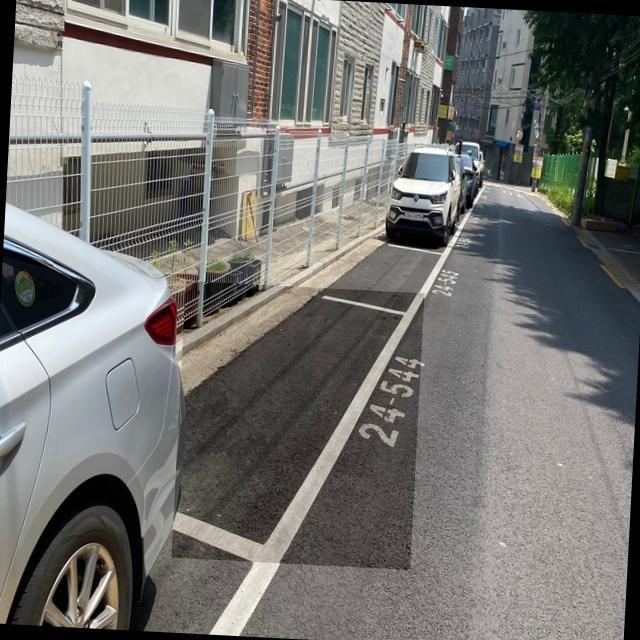empty: (173, 288, 423, 563), (312, 237, 452, 321)
